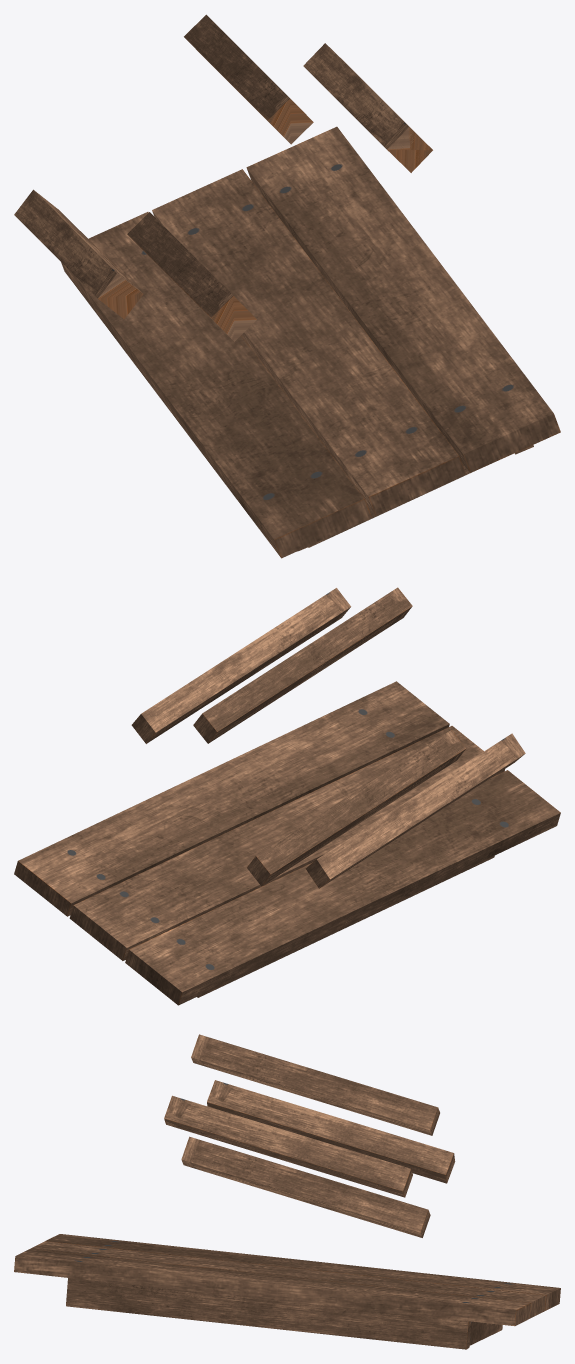
File: mesa_desarmada.glb
3 views of the same model, one above another, from view 1: azimuth 30°, elevation 25°; view 2: azimuth 150°, elevation 25°; view 3: azimuth 270°, elevation 25° (orthographic). The views are drawn at different scales.
Parts seen in each view (by area): view 1: Object_3.001, Object_3.008, Object_3.013, Object_3.058, Object_3.060, Object_3.005, Object_3.010, Object_3, Object_3.004, Object_3.063; view 2: Object_3.058, Object_3.001, Object_3.013, Object_3.008, Object_3.060, Object_3.004, Object_3.012, Object_3.002, Object_3.007, Object_3.023, Object_3.063; view 3: Object_3.058, Object_3.016, Object_3.061, Object_3.001, Object_3.008, Object_3.013, Object_3.014, Object_3.009, Object_3.028.
Boxes of the visible parts, left/top/right/bottom form: Object_3.001: left=246, top=126, right=553, bottom=454; Object_3.008: left=152, top=169, right=458, bottom=496; Object_3.013: left=75, top=212, right=364, bottom=539; Object_3.058: left=14, top=14, right=432, bottom=341; Object_3.060: left=61, top=262, right=280, bottom=557; Object_3.005: left=369, top=456, right=466, bottom=515; Object_3.010: left=274, top=499, right=371, bottom=558; Object_3: left=463, top=413, right=560, bottom=472; Object_3.004: left=247, top=168, right=469, bottom=472; Object_3.063: left=152, top=211, right=375, bottom=514; Object_3.058: left=131, top=587, right=525, bottom=888; Object_3.001: left=18, top=681, right=449, bottom=903; Object_3.013: left=129, top=770, right=560, bottom=992; Object_3.008: left=73, top=726, right=483, bottom=947; Object_3.060: left=178, top=813, right=560, bottom=1005; Object_3.004: left=67, top=724, right=449, bottom=916; Object_3.012: left=125, top=950, right=182, bottom=1005; Object_3.002: left=14, top=861, right=70, bottom=916; Object_3.007: left=69, top=905, right=126, bottom=960; Object_3.023: left=198, top=856, right=494, bottom=997; Object_3.063: left=123, top=769, right=504, bottom=960; Object_3.058: left=164, top=1034, right=455, bottom=1237; Object_3.016: left=66, top=1278, right=468, bottom=1349; Object_3.061: left=14, top=1256, right=516, bottom=1326; Object_3.001: left=15, top=1249, right=530, bottom=1310; Object_3.008: left=31, top=1241, right=544, bottom=1302; Object_3.013: left=46, top=1234, right=560, bottom=1294; Object_3.014: left=45, top=1241, right=546, bottom=1310; Object_3.009: left=30, top=1248, right=531, bottom=1318; Object_3.028: left=469, top=1321, right=502, bottom=1345.
Size of the model in its own units: 2.02 by 1.66 by 2.96.
1 material, 1 textured.
